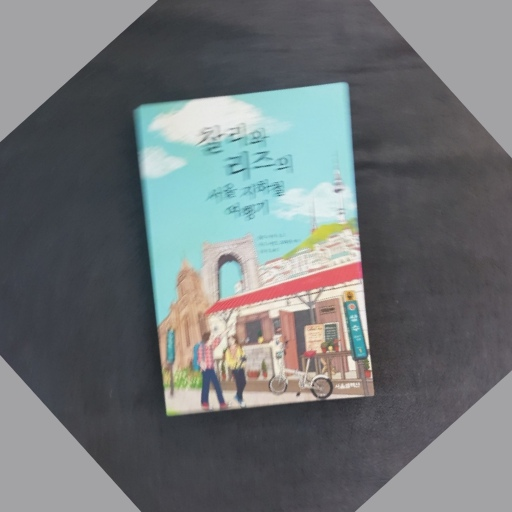Paper_0: (127, 77, 381, 423)
